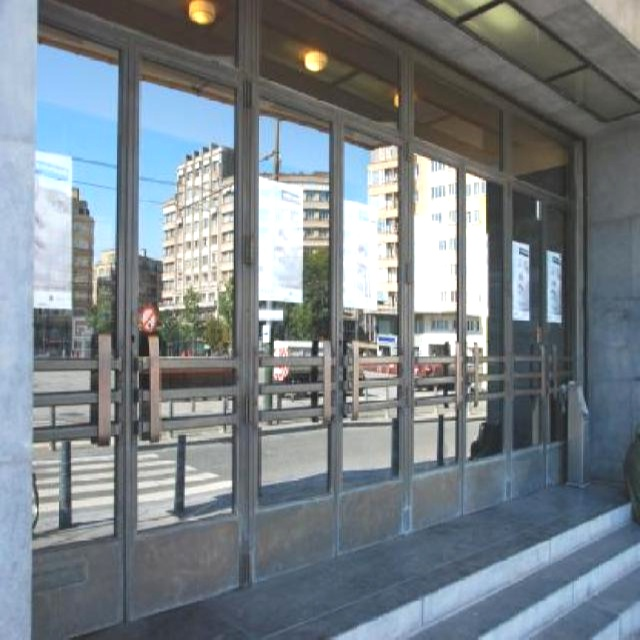stair: (326, 503, 640, 640)
